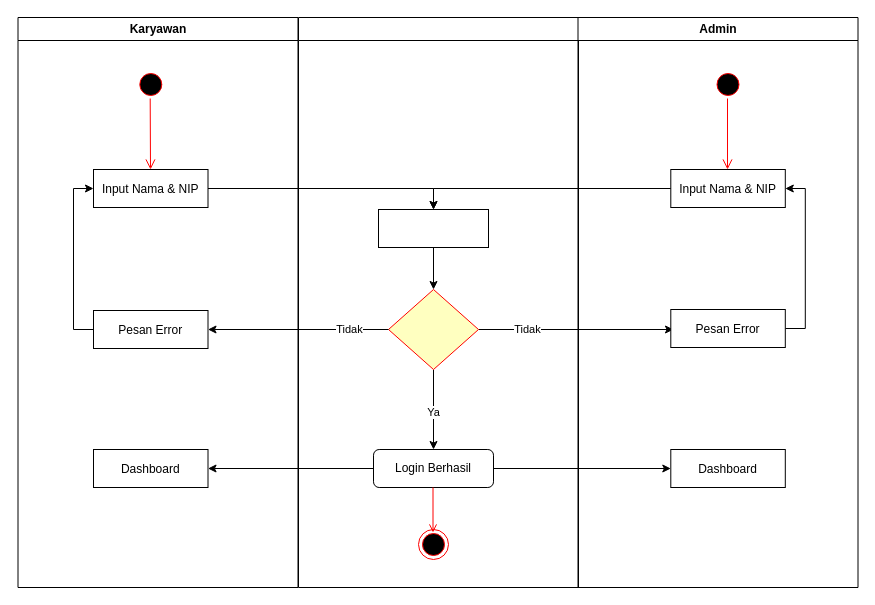
Some shapes in this 875 by 605 pixel diagram are drawn without their labels. The shapes that lost their labels are listed below. From the top down, each one's box as (x1, y1, x2, y2) in pixels, then its label:
(378, 208, 488, 248): Proses Login
(298, 16, 578, 588): Sistem
(388, 288, 478, 370): Validasi
